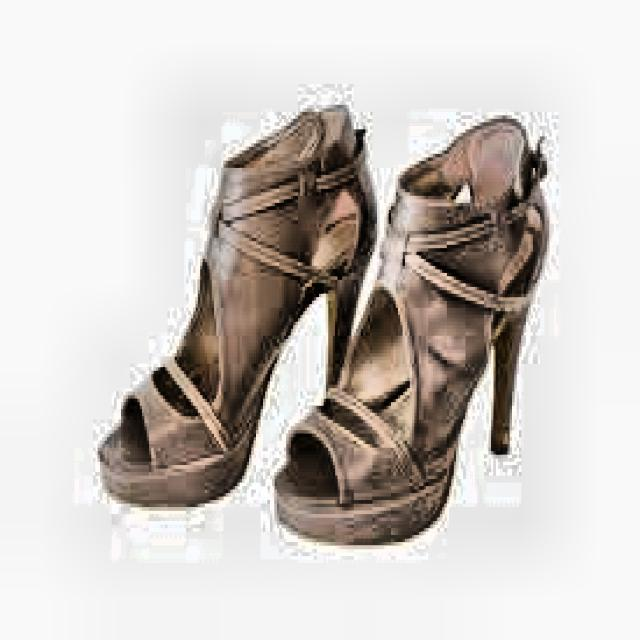shoes: (95, 101, 552, 556)
